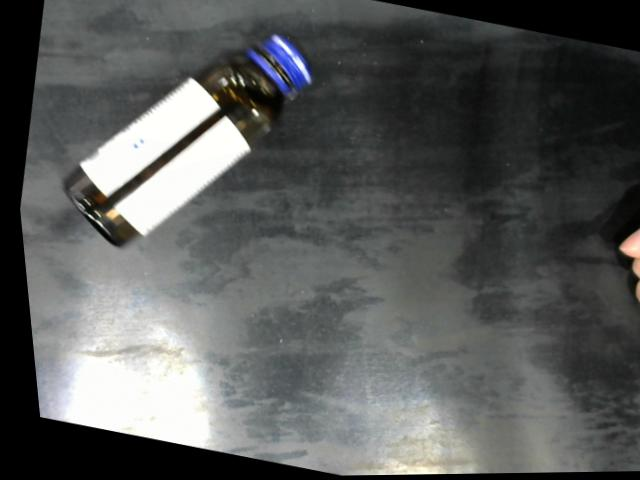glass: (56, 25, 320, 261)
